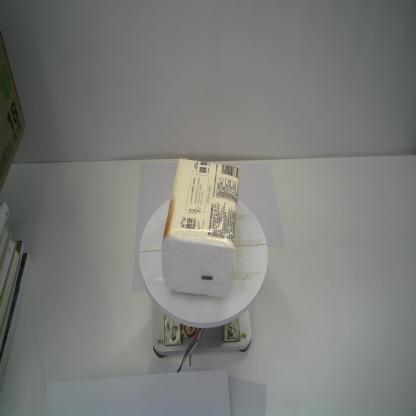Tissue: (160, 156, 242, 301)
